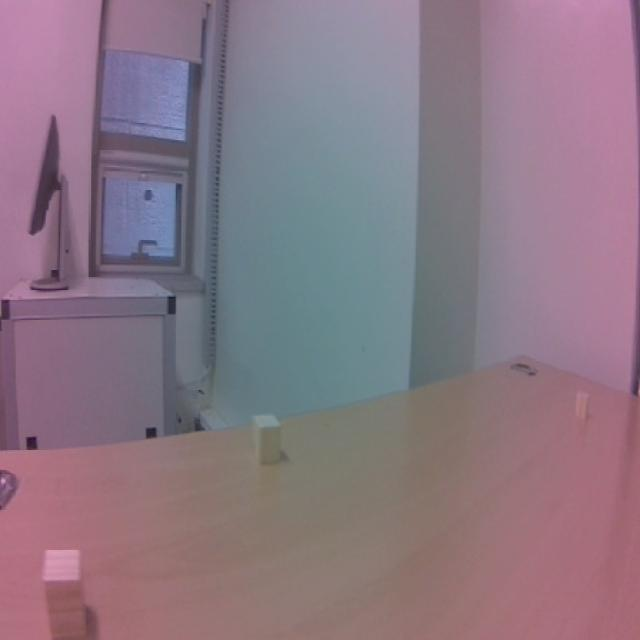obstacle: (250, 412, 292, 464)
